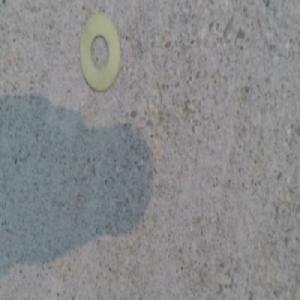Washer: (78, 16, 121, 94)
